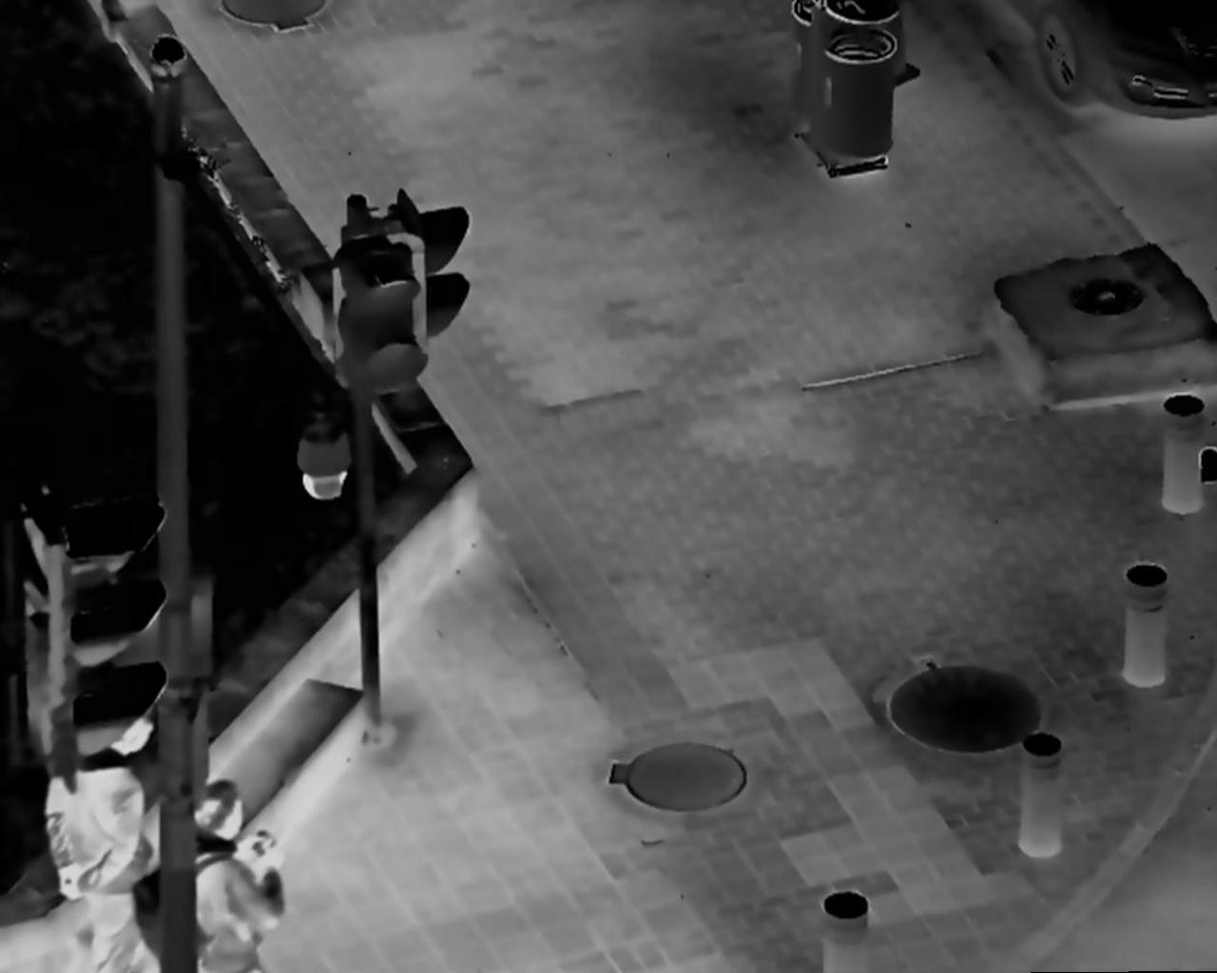person: (31, 708, 170, 973), (161, 778, 286, 973)
